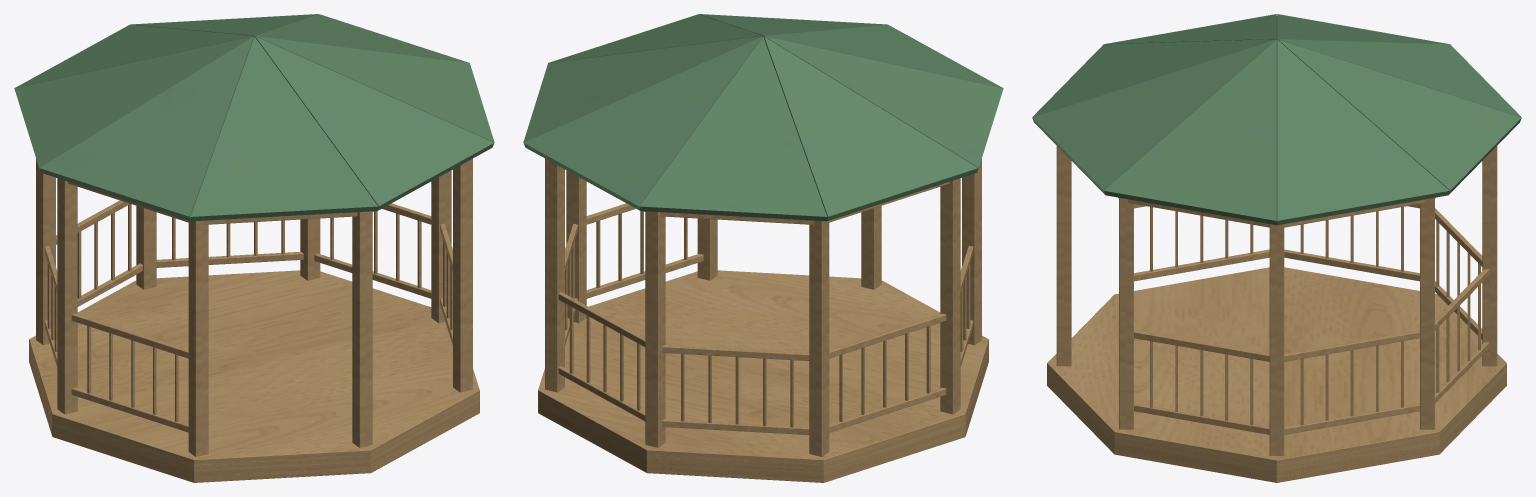
File: gazebo.glb
3 views of the same model, side by side, from view 1: azimuth 30°, elevation 25°; view 2: azimuth 150°, elevation 25°; view 3: azimuth 270°, elevation 25° (orthographic).
Parts seen in each view (by area): view 1: Gazebo baluster, Gazebo roof facet; view 2: Gazebo baluster, Gazebo roof facet; view 3: Gazebo baluster, Gazebo roof facet.
Boxes of the visible parts, x1,y1,x2,y2 form: Gazebo baluster: (29, 158, 479, 482); Gazebo roof facet: (14, 14, 494, 221); Gazebo baluster: (538, 158, 988, 482); Gazebo roof facet: (523, 14, 1003, 221); Gazebo baluster: (1047, 146, 1506, 482); Gazebo roof facet: (1032, 14, 1521, 225).
Bounding box in the file's own units: 4.26 × 3.33 × 4.26.
Materials: 2 (2 with a texture image).
